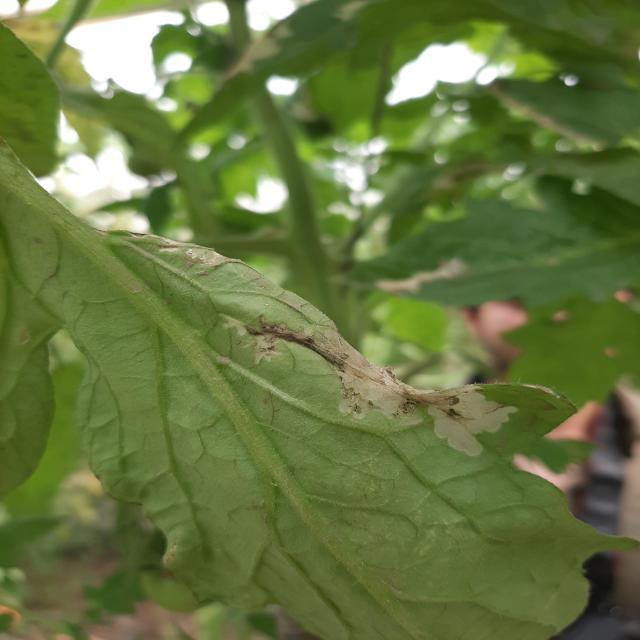Tuta absoluta: (221, 290, 519, 474)
